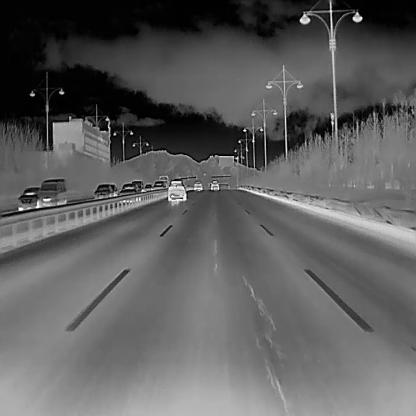car: (38, 178, 66, 206), (17, 186, 39, 210), (167, 178, 187, 200), (92, 182, 118, 197), (118, 183, 139, 194), (153, 180, 166, 190), (209, 179, 219, 191), (192, 180, 202, 191), (144, 182, 152, 191)
